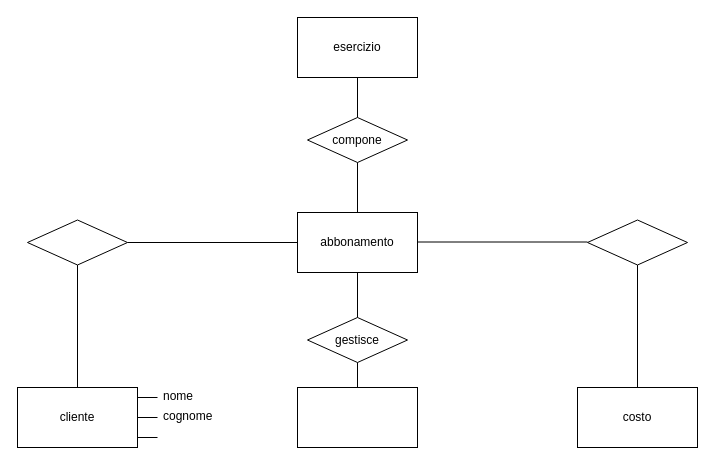
Image size: 715x465. Some labels were removed from this diagram. Here are the shapes that lost their labels. From the top down, the centre of each, then its label:
At pixel 77 242: "possiede".
At pixel 637 242: "ha".
At pixel 357 417: "gestore".
